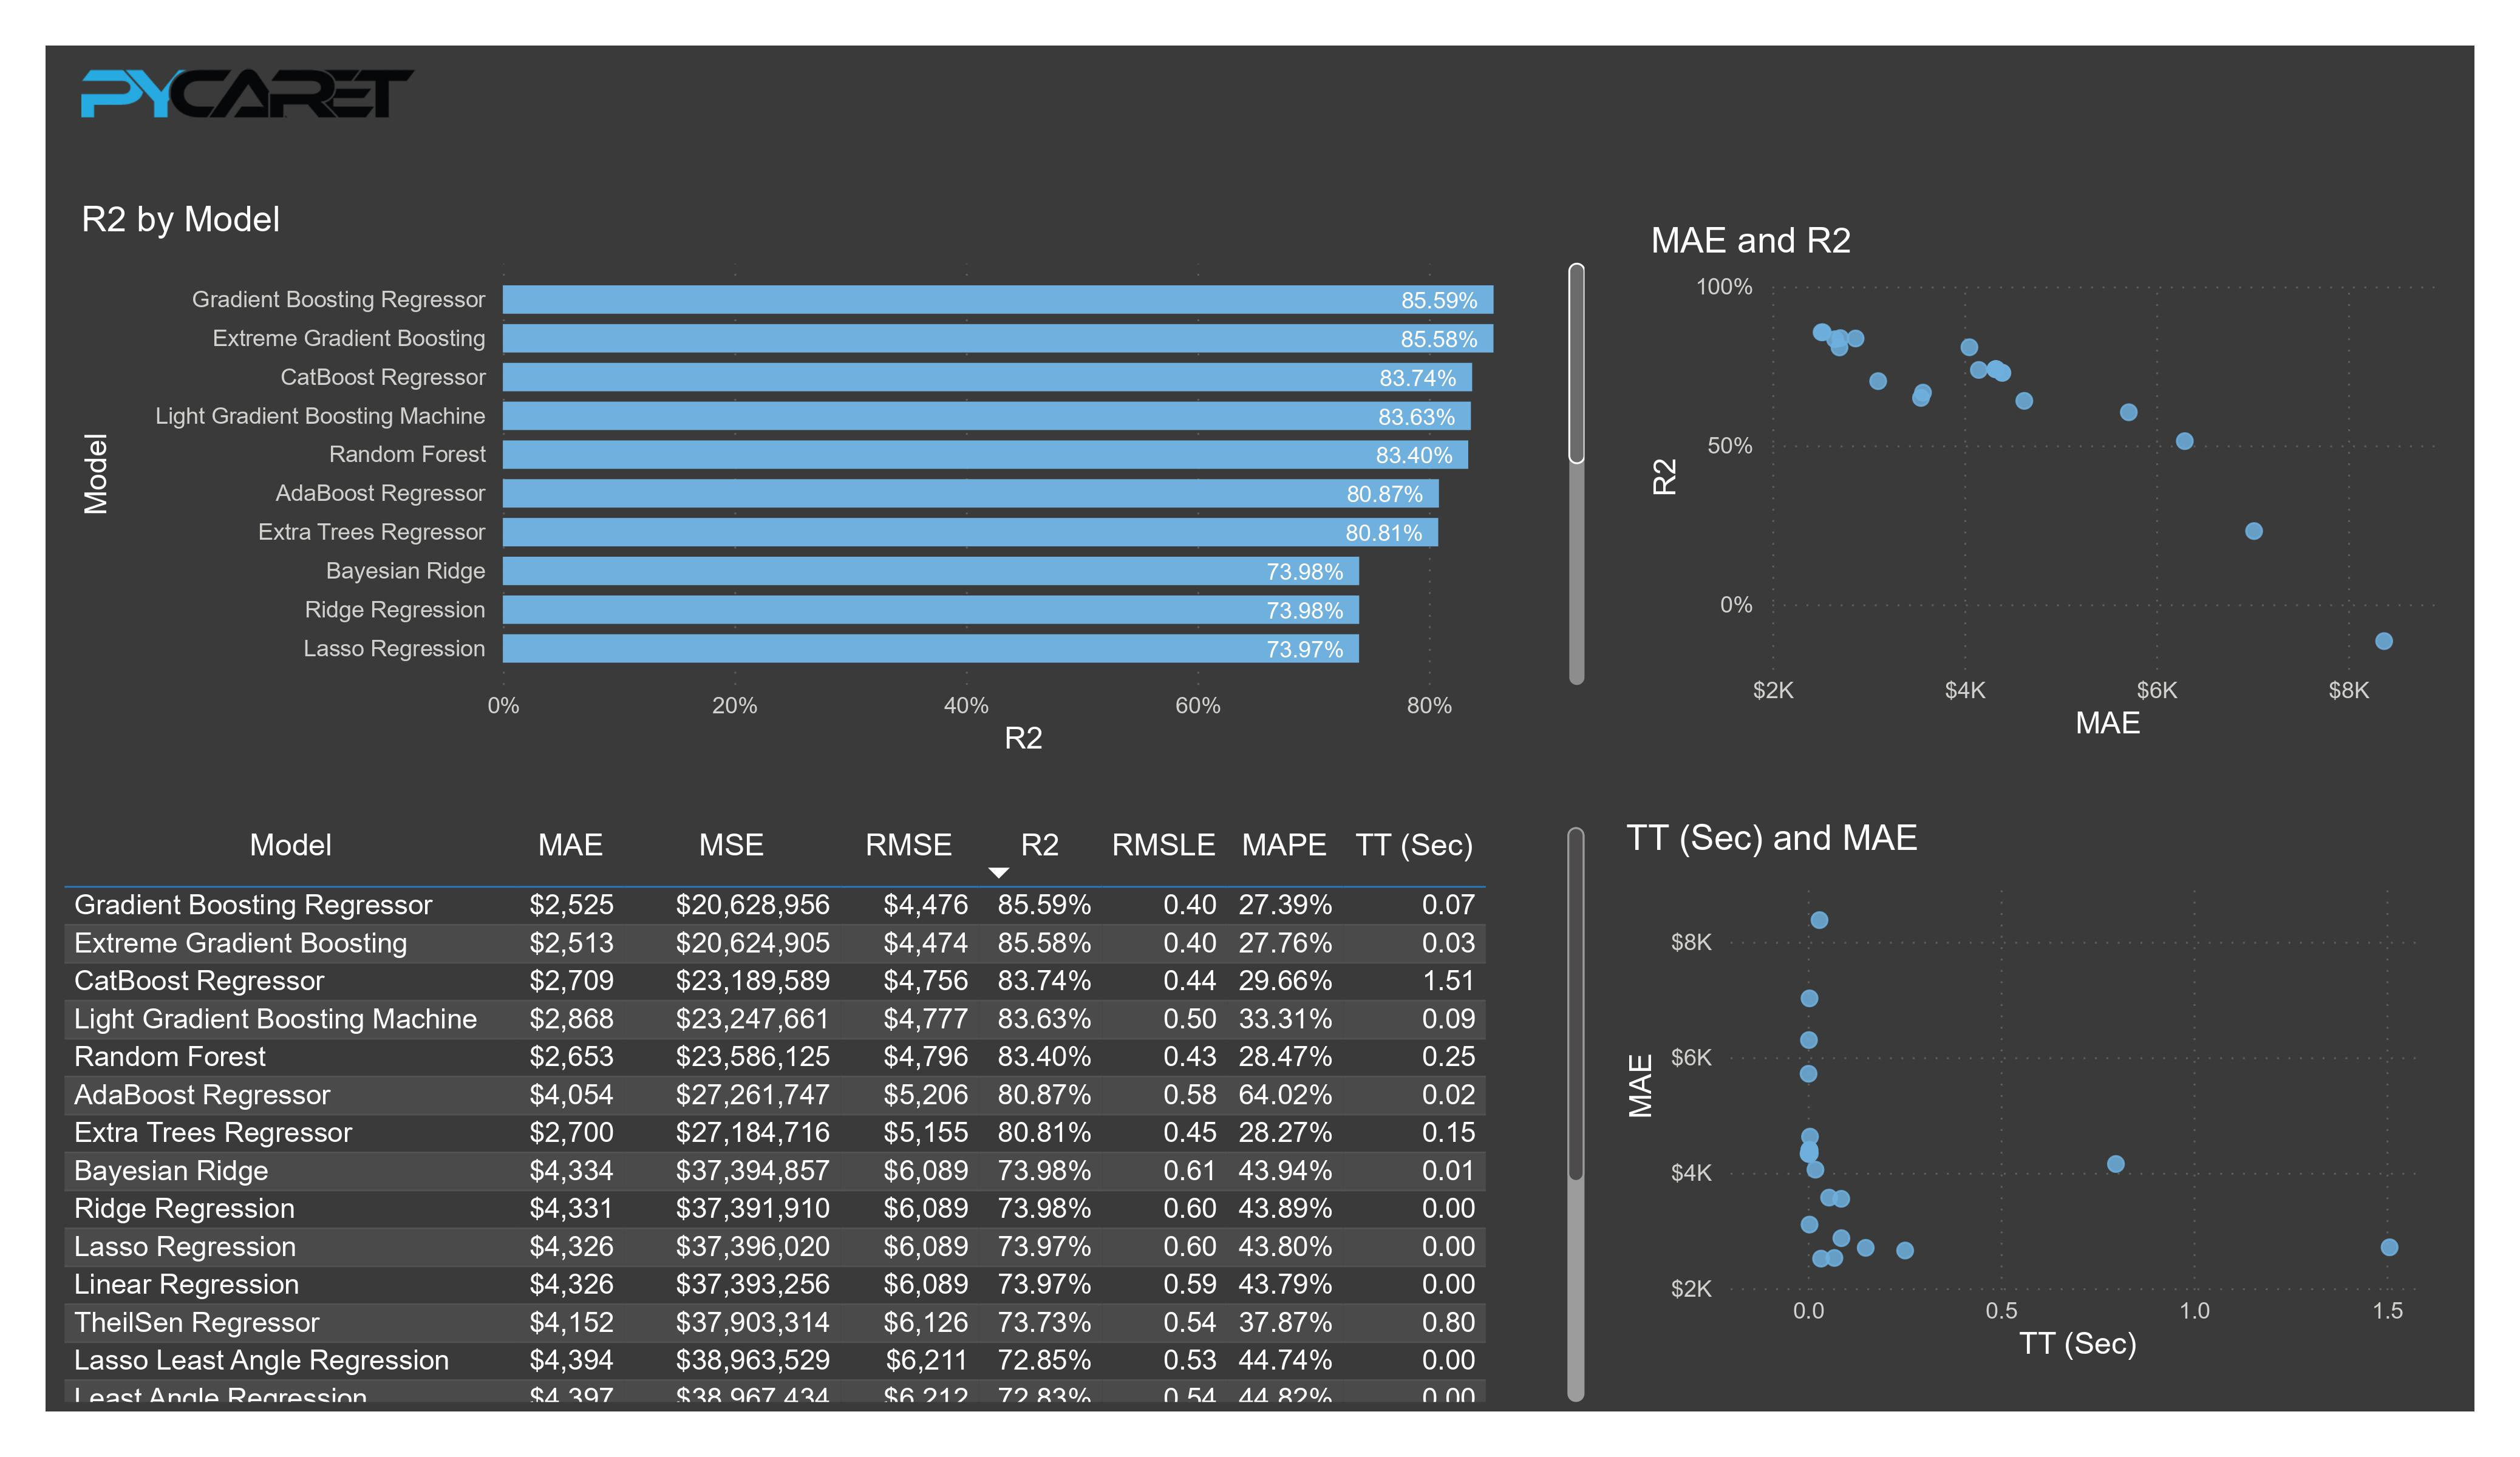

The dashboard page shown, as its layout file describes it:
{"tool":"powerbi","page":{"name":"Dashboard","canvas":[1280,720],"ordinal":0},"visuals":[{"type":"tableEx","fields":{"Values":["insurance-automl.Model","Sum(insurance-automl.MAE)","Sum(insurance-automl.MSE)","Sum(insurance-automl.RMSE)","Sum(insurance-automl.R2)","Sum(insurance-automl.RMSLE)","Sum(insurance-automl.MAPE)","Sum(insurance-automl.TT (Sec))"]},"box":[4.1,406.5,811.7,313.1],"z":0},{"type":"barChart","fields":{"Category":["insurance-automl.Model"],"Y":["Sum(insurance-automl.R2)"]},"box":[13.7,81,802.1,298],"z":1000},{"type":"scatterChart","fields":{"X":["insurance-automl.MAE"],"Y":["insurance-automl.R2"]},"box":[840.5,92,439.5,278.8],"z":2000},{"type":"scatterChart","fields":{"X":["insurance-automl.TT (Sec)"],"Y":["insurance-automl.MAE"]},"box":[828.2,406.5,439.5,291.2],"z":3000},{"type":"image","box":[14.3,0,185.7,48.8],"z":4000}]}

Visuals, with their boxes on the page's 1280x720 design canvas (x1, y1, x2, y2). These are canvas units, not pixel positions in the 2520x1457 screenshot, which may show the page scaled, cropped or inside an application window:
tableEx - insurance-automl.Model x Sum(insurance-automl.MAE): (x1=4, y1=406, x2=816, y2=720)
barChart - insurance-automl.Model x Sum(insurance-automl.R2): (x1=14, y1=81, x2=816, y2=379)
scatterChart - insurance-automl.MAE x insurance-automl.R2: (x1=840, y1=92, x2=1280, y2=371)
scatterChart - insurance-automl.TT (Sec) x insurance-automl.MAE: (x1=828, y1=406, x2=1268, y2=698)
image: (x1=14, y1=0, x2=200, y2=49)
